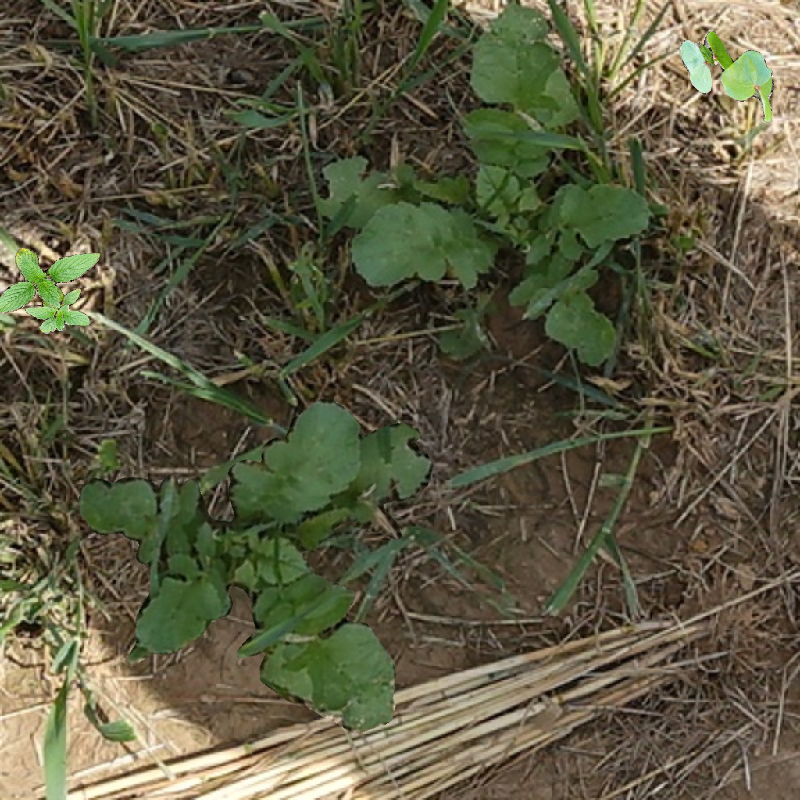weed: (323, 5, 652, 368), (90, 405, 436, 735), (1, 245, 100, 338), (680, 29, 776, 111)
